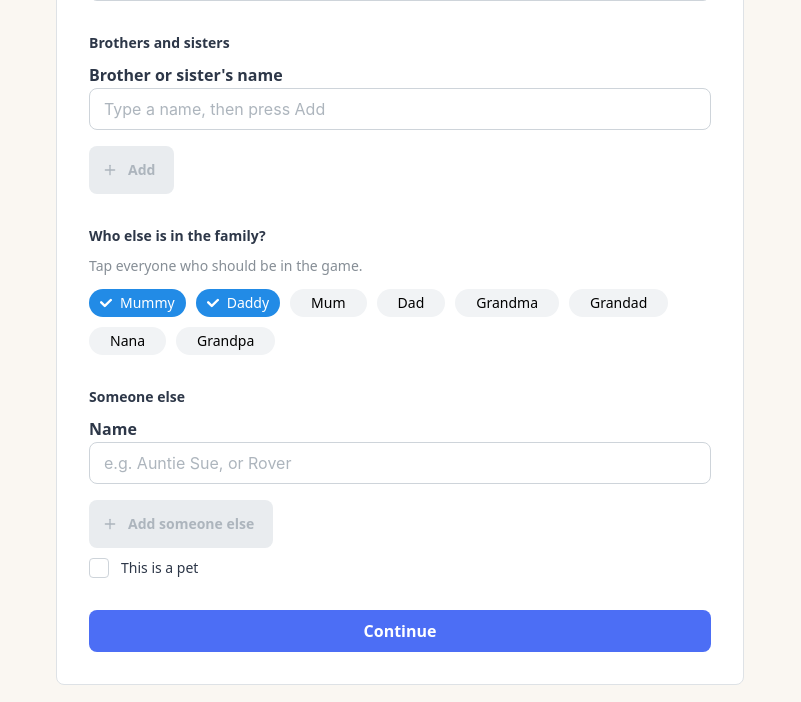
it: Voice studio › recording › skip moves on without counting
(page scrolled)
Click the button "Continue". click: (400, 631)
box: [89,610,711,652]
(page scrolled)
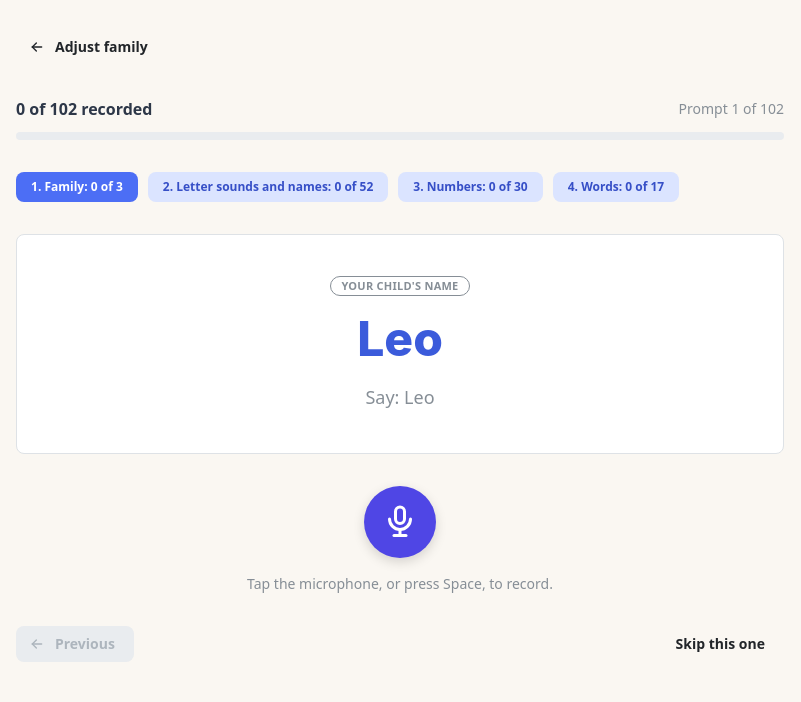
Expected: the element with test id "prompt-card" is shown, [16,234,784,454]
Click the button "Skip this one". click: (720, 644)
box: [656,626,784,662]
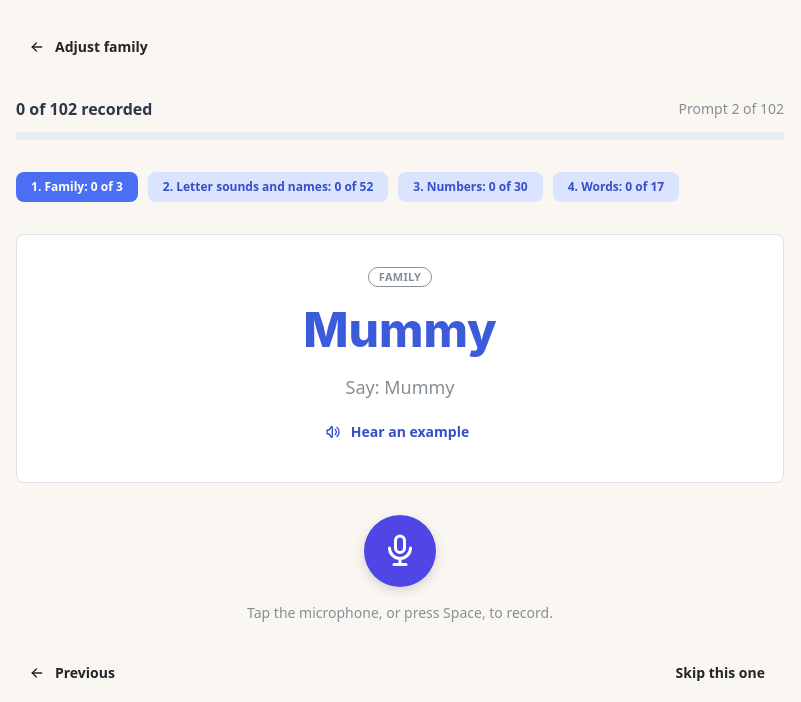
Expected: the text with test id "recorded-count" reads "0 of 102 recorded", [16,97,152,122]
Expected: the heading with test id "prompt-word" reads "Mummy", [303,300,497,359]
